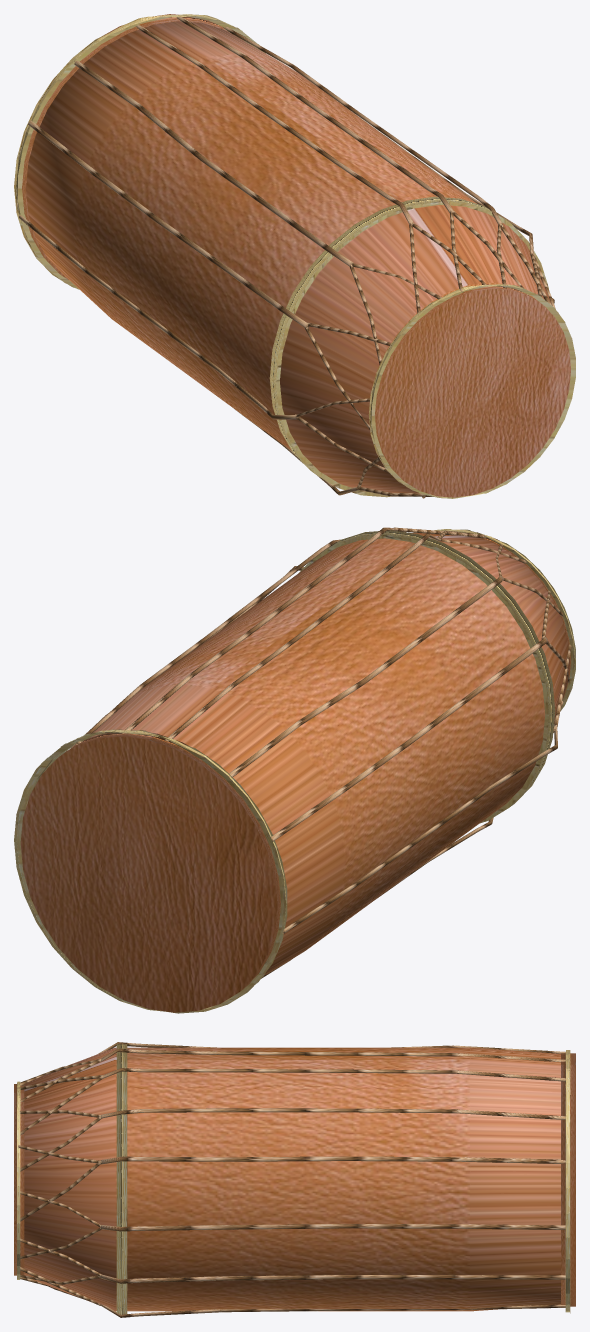
Rendered from gendang.glb.
3 renders of one model, top to bottom at view 1: azimuth 30°, elevation 25°; view 2: azimuth 150°, elevation 25°; view 3: azimuth 270°, elevation 25°, orthographic. The views are drawn at different scales.
Visible parts, largest first — view 1: Silinder, Silinder.002, Silinder.003, Silinder.005, Silinder.006, Silinder.040, Silinder.041, Silinder.001, Silinder.031, Silinder.030, Silinder.039, Silinder.032; view 2: Silinder, Silinder.001, Silinder.006, Silinder.003, Silinder.040, Silinder.041, Silinder.030, Silinder.031, Silinder.039, Silinder.032, Silinder.005; view 3: Silinder, Silinder.003, Silinder.001, Silinder.033, Silinder.034, Silinder.035, Silinder.032, Silinder.031, Silinder.030, Silinder.006, Silinder.002, Silinder.036 (+2 smaller).
Boxes of the visible parts, bbox=[...] form: Silinder: bbox=[26, 21, 550, 493]; Silinder.002: bbox=[374, 284, 570, 497]; Silinder.003: bbox=[269, 196, 549, 497]; Silinder.005: bbox=[368, 284, 575, 498]; Silinder.006: bbox=[14, 14, 265, 289]; Silinder.040: bbox=[28, 120, 308, 327]; Silinder.041: bbox=[74, 60, 353, 266]; Silinder.001: bbox=[22, 14, 243, 279]; Silinder.031: bbox=[176, 16, 452, 212]; Silinder.030: bbox=[136, 25, 413, 224]; Silinder.039: bbox=[19, 215, 299, 419]; Silinder.032: bbox=[223, 27, 502, 224]; Silinder: bbox=[72, 533, 569, 974]; Silinder.001: bbox=[20, 730, 280, 1012]; Silinder.006: bbox=[14, 729, 287, 1013]; Silinder.003: bbox=[299, 530, 555, 823]; Silinder.040: bbox=[271, 637, 547, 841]; Silinder.041: bbox=[228, 575, 503, 777]; Silinder.030: bbox=[164, 533, 439, 741]; Silinder.031: bbox=[123, 527, 397, 733]; Silinder.039: bbox=[282, 728, 557, 933]; Silinder.032: bbox=[75, 539, 340, 744]; Silinder.005: bbox=[434, 529, 575, 711]; Silinder: bbox=[24, 1047, 560, 1311]; Silinder.003: bbox=[116, 1044, 127, 1314]; Silinder.001: bbox=[561, 1053, 575, 1306]; Silinder.033: bbox=[100, 1156, 565, 1164]; Silinder.034: bbox=[100, 1224, 565, 1231]; Silinder.035: bbox=[100, 1274, 565, 1283]; Silinder.032: bbox=[101, 1108, 565, 1119]; Silinder.031: bbox=[102, 1068, 567, 1081]; Silinder.030: bbox=[101, 1048, 565, 1062]; Silinder.006: bbox=[565, 1050, 570, 1313]; Silinder.002: bbox=[14, 1084, 24, 1275]; Silinder.036: bbox=[100, 1304, 565, 1317].
Size of the model in its own units: 0.8762 by 0.8729 by 1.75.
Materials: 41 (41 with a texture image).
